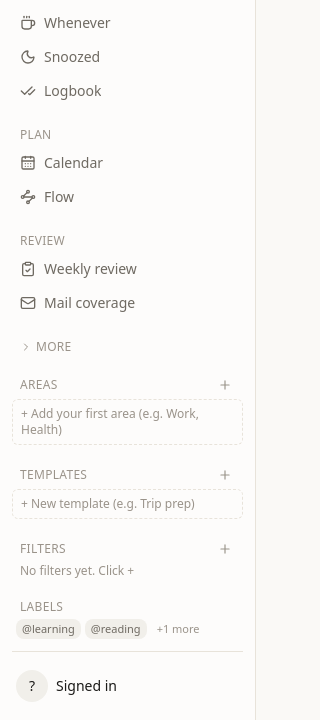
it: Sidebar › shows the busy labels and parks the rest behind a count
(page scrolled)
Expected: the link "@learning" is shown, [16, 618, 81, 639]
Expected: the link "@reading" is shown, [85, 618, 147, 639]
Click the button "+1 more" at (178, 629), box [151, 618, 206, 639]
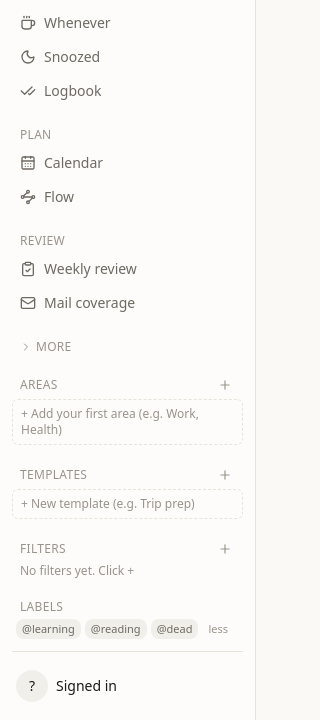
Expected: the link "@dead" is shown, [151, 618, 198, 639]
